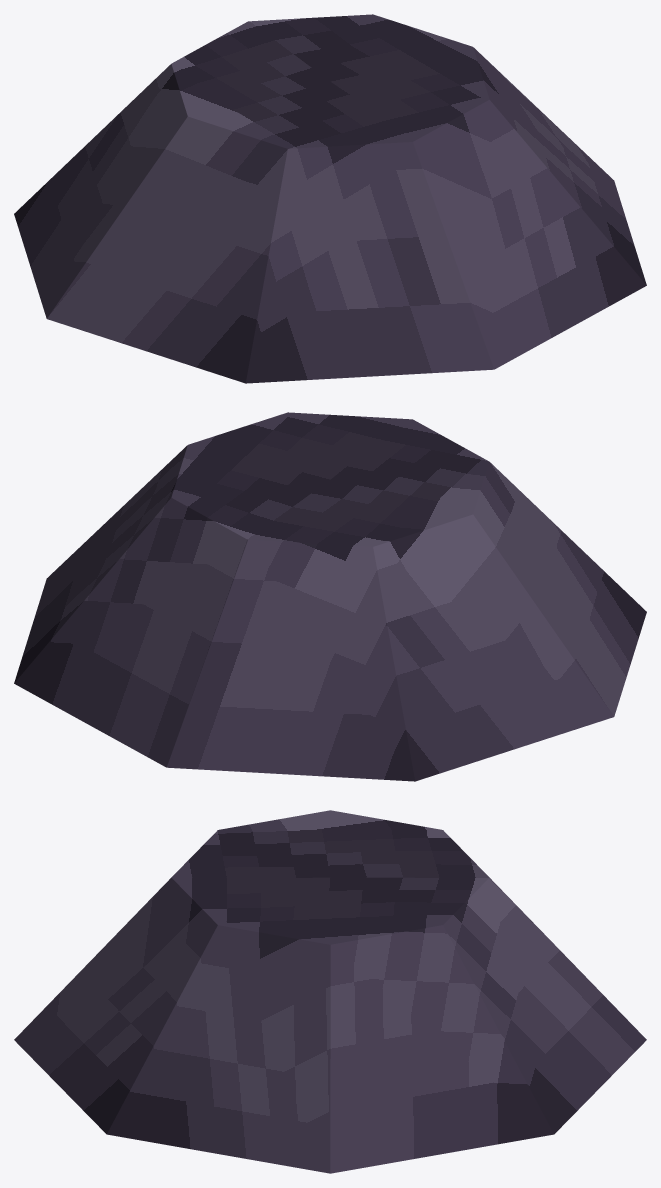
Rendered from tenghu.fbx.
3 renders of one model, top to bottom at view 1: azimuth 30°, elevation 25°; view 2: azimuth 150°, elevation 25°; view 3: azimuth 270°, elevation 25°, orthographic. The views are drawn at different scales.
Parts seen in each view (by area): view 1: 平面.133; view 2: 平面.133; view 3: 平面.133.
Part boxes in pixels (x1,y1,x2,y2): 平面.133: (14,14,646,383); 平面.133: (14,412,646,781); 平面.133: (14,810,646,1173).
Size of the model in its own units: 18.25 by 5.17 by 18.25.
1 material, 1 textured.
